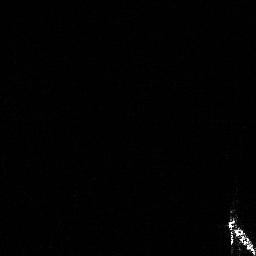ship: (224, 209, 256, 256)
